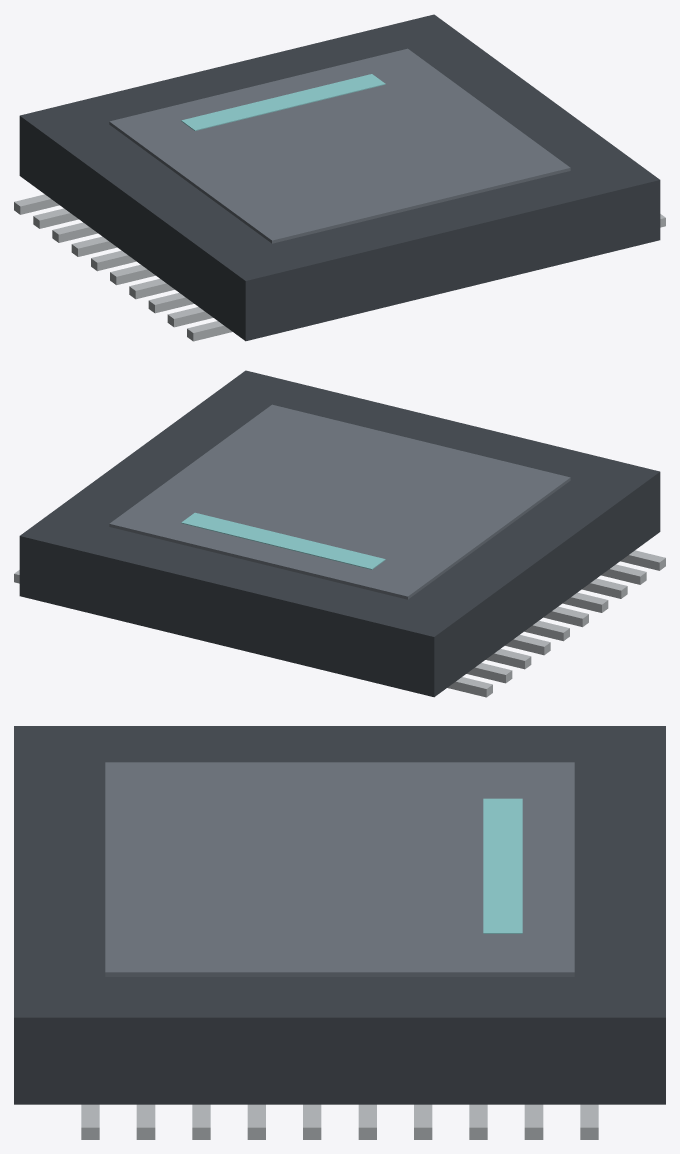
The picture shows the model from 3 angles, top to bottom: view 1: azimuth 30°, elevation 25°; view 2: azimuth 150°, elevation 25°; view 3: azimuth 270°, elevation 25°; orthographic projection. The views are drawn at different scales.
Parts seen in each view (by area): view 1: 000_Black_Epoxy__PSMAT__Black_Epoxy, 001_Silicon_Die__PSMAT__Silicon_Die, 002_Silkscreen_Cyan__PSMAT__Silkscreen_Cyan, 020_Solder_Tin__PSMAT__Solder_Tin, 010_Solder_Tin__PSMAT__Solder_Tin, 008_Solder_Tin__PSMAT__Solder_Tin, 016_Solder_Tin__PSMAT__Solder_Tin, 006_Solder_Tin__PSMAT__Solder_Tin, 018_Solder_Tin__PSMAT__Solder_Tin, 004_Solder_Tin__PSMAT__Solder_Tin, 012_Solder_Tin__PSMAT__Solder_Tin, 014_Solder_Tin__PSMAT__Solder_Tin (+1 smaller); view 2: 000_Black_Epoxy__PSMAT__Black_Epoxy, 001_Silicon_Die__PSMAT__Silicon_Die, 002_Silkscreen_Cyan__PSMAT__Silkscreen_Cyan, 006_Solder_Tin__PSMAT__Solder_Tin, 016_Solder_Tin__PSMAT__Solder_Tin, 010_Solder_Tin__PSMAT__Solder_Tin, 018_Solder_Tin__PSMAT__Solder_Tin, 008_Solder_Tin__PSMAT__Solder_Tin, 020_Solder_Tin__PSMAT__Solder_Tin, 012_Solder_Tin__PSMAT__Solder_Tin, 014_Solder_Tin__PSMAT__Solder_Tin, 022_Solder_Tin__PSMAT__Solder_Tin (+1 smaller); view 3: 000_Black_Epoxy__PSMAT__Black_Epoxy, 001_Silicon_Die__PSMAT__Silicon_Die, 002_Silkscreen_Cyan__PSMAT__Silkscreen_Cyan, 005_Solder_Tin__PSMAT__Solder_Tin, 019_Solder_Tin__PSMAT__Solder_Tin, 003_Solder_Tin__PSMAT__Solder_Tin, 007_Solder_Tin__PSMAT__Solder_Tin, 017_Solder_Tin__PSMAT__Solder_Tin, 021_Solder_Tin__PSMAT__Solder_Tin, 009_Solder_Tin__PSMAT__Solder_Tin, 011_Solder_Tin__PSMAT__Solder_Tin, 013_Solder_Tin__PSMAT__Solder_Tin (+1 smaller).
Boxes of the visible parts, <box> form: 000_Black_Epoxy__PSMAT__Black_Epoxy: <box>19,14,660,341</box>; 001_Silicon_Die__PSMAT__Silicon_Die: <box>109,48,570,243</box>; 002_Silkscreen_Cyan__PSMAT__Silkscreen_Cyan: <box>181,74,385,130</box>; 020_Solder_Tin__PSMAT__Solder_Tin: <box>167,307,213,327</box>; 010_Solder_Tin__PSMAT__Solder_Tin: <box>71,236,117,256</box>; 008_Solder_Tin__PSMAT__Solder_Tin: <box>52,222,97,242</box>; 016_Solder_Tin__PSMAT__Solder_Tin: <box>129,279,174,299</box>; 006_Solder_Tin__PSMAT__Solder_Tin: <box>33,208,78,228</box>; 018_Solder_Tin__PSMAT__Solder_Tin: <box>148,293,193,313</box>; 004_Solder_Tin__PSMAT__Solder_Tin: <box>14,194,59,214</box>; 012_Solder_Tin__PSMAT__Solder_Tin: <box>91,250,136,271</box>; 014_Solder_Tin__PSMAT__Solder_Tin: <box>110,264,155,285</box>; 000_Black_Epoxy__PSMAT__Black_Epoxy: <box>19,370,660,697</box>; 001_Silicon_Die__PSMAT__Silicon_Die: <box>109,404,570,599</box>; 002_Silkscreen_Cyan__PSMAT__Silkscreen_Cyan: <box>181,512,385,569</box>; 006_Solder_Tin__PSMAT__Solder_Tin: <box>466,663,512,683</box>; 016_Solder_Tin__PSMAT__Solder_Tin: <box>562,592,608,612</box>; 010_Solder_Tin__PSMAT__Solder_Tin: <box>505,635,550,655</box>; 018_Solder_Tin__PSMAT__Solder_Tin: <box>582,578,627,598</box>; 008_Solder_Tin__PSMAT__Solder_Tin: <box>486,649,531,669</box>; 020_Solder_Tin__PSMAT__Solder_Tin: <box>601,564,646,584</box>; 012_Solder_Tin__PSMAT__Solder_Tin: <box>524,620,569,641</box>; 014_Solder_Tin__PSMAT__Solder_Tin: <box>543,606,588,627</box>; 022_Solder_Tin__PSMAT__Solder_Tin: <box>620,550,665,570</box>; 000_Black_Epoxy__PSMAT__Black_Epoxy: <box>14,726,665,1104</box>; 001_Silicon_Die__PSMAT__Silicon_Die: <box>105,762,574,976</box>; 002_Silkscreen_Cyan__PSMAT__Silkscreen_Cyan: <box>483,798,522,933</box>; 005_Solder_Tin__PSMAT__Solder_Tin: <box>524,1104,543,1139</box>; 019_Solder_Tin__PSMAT__Solder_Tin: <box>136,1104,155,1139</box>; 003_Solder_Tin__PSMAT__Solder_Tin: <box>580,1104,598,1139</box>; 007_Solder_Tin__PSMAT__Solder_Tin: <box>469,1104,487,1139</box>; 017_Solder_Tin__PSMAT__Solder_Tin: <box>192,1104,210,1139</box>; 021_Solder_Tin__PSMAT__Solder_Tin: <box>81,1104,99,1139</box>; 009_Solder_Tin__PSMAT__Solder_Tin: <box>414,1104,432,1139</box>; 011_Solder_Tin__PSMAT__Solder_Tin: <box>358,1104,376,1139</box>; 013_Solder_Tin__PSMAT__Solder_Tin: <box>303,1104,321,1139</box>.
Size of the model in its own units: 0.0205 by 0.0031 by 0.017.
